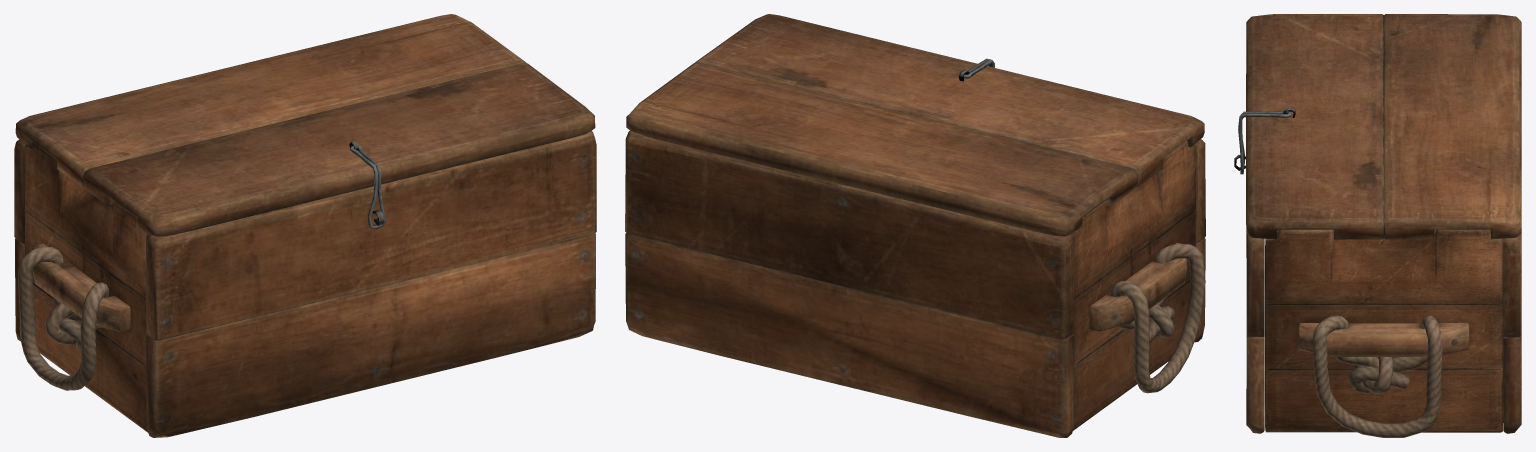
The model's file is wooden_crate_01.fbx.
3 views of the same model, side by side, from view 1: azimuth 30°, elevation 25°; view 2: azimuth 150°, elevation 25°; view 3: azimuth 270°, elevation 25° (orthographic). The views are drawn at different scales.
Visible parts, largest first — view 1: wooden_crate_01_LOD0; view 2: wooden_crate_01_LOD0; view 3: wooden_crate_01_LOD0.
Boxes of the visible parts, box(x1,y1,x2,y2) form: wooden_crate_01_LOD0: box(14, 14, 596, 437); wooden_crate_01_LOD0: box(625, 14, 1205, 437); wooden_crate_01_LOD0: box(1234, 14, 1521, 437).
Size of what is drawn, in the model's own units: 82.46 by 34.92 by 40.88.
1 material, 1 textured.
